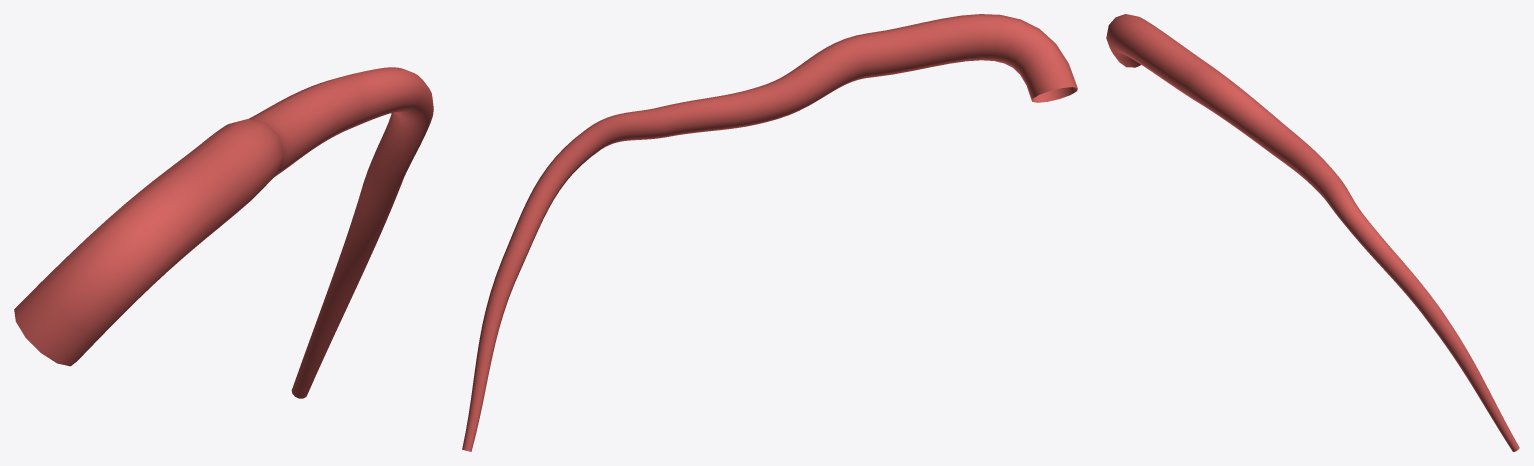
3 views of the same model, side by side, from view 1: azimuth 30°, elevation 25°; view 2: azimuth 150°, elevation 25°; view 3: azimuth 270°, elevation 25° (orthographic). The views are drawn at different scales.
Visible parts, largest first — view 1: 左侧膝上外侧动脉; view 2: 左侧膝上外侧动脉; view 3: 左侧膝上外侧动脉.
Boxes of the visible parts, x1=… form: 左侧膝上外侧动脉: x1=14, y1=67, x2=433, y2=398; 左侧膝上外侧动脉: x1=462, y1=14, x2=1077, y2=451; 左侧膝上外侧动脉: x1=1106, y1=14, x2=1519, y2=451.
Bounding box in the file's own units: 0.07 × 0.059 × 0.0732.
